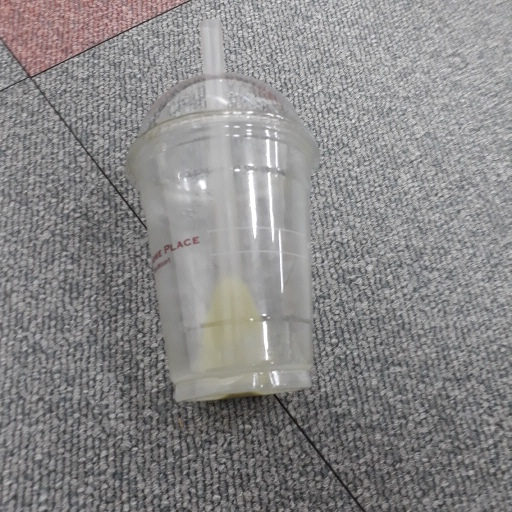Plastic_2: (122, 16, 316, 403)
